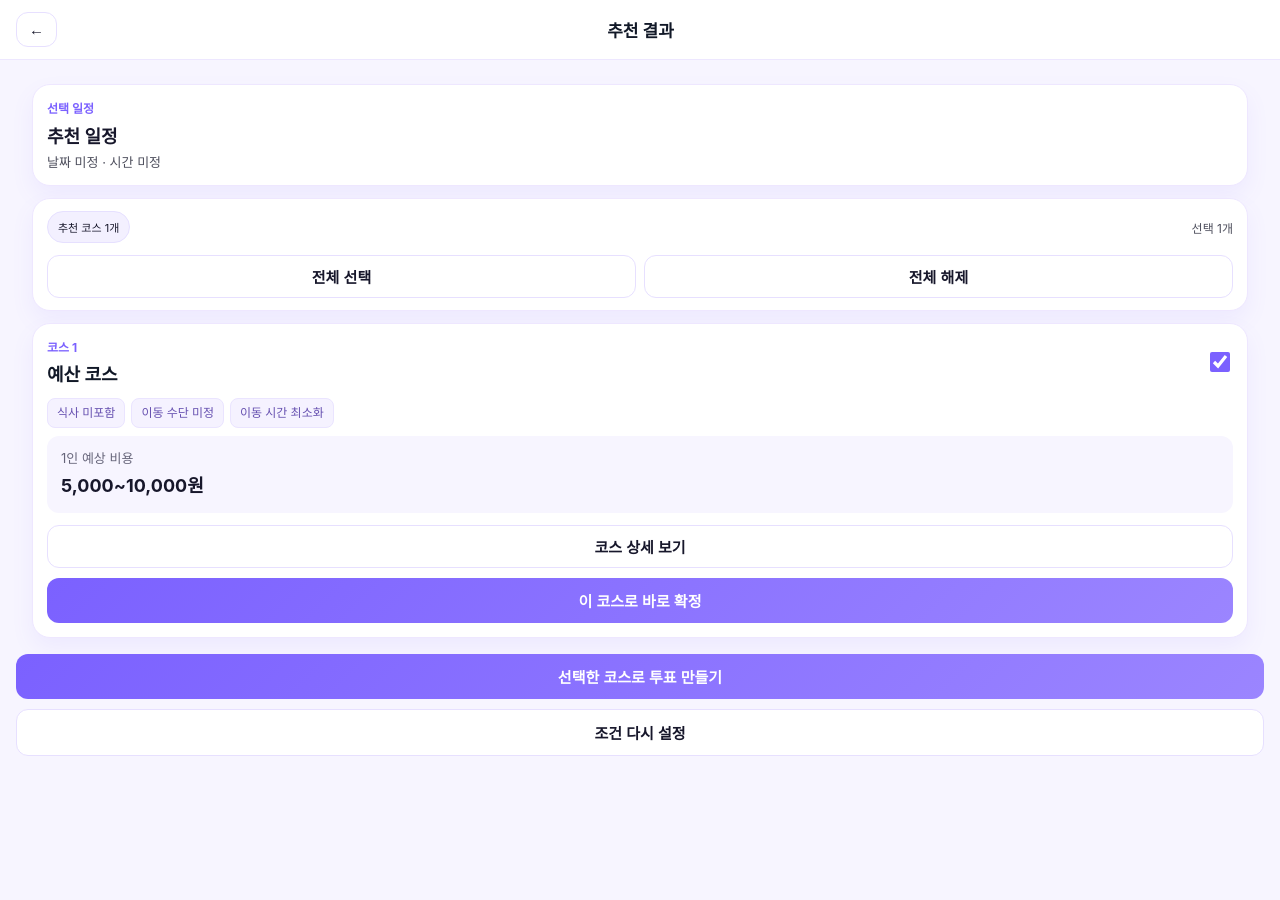
Test: 예산 범위·추정 안내·평점 없음 표시와 선택 데이터 전달
Later steps or results of the test are not shown.
Expected: the text "1인 예상 비용" is shown, [61,450,133,466]
Expected: the text "5,000~10,000원" is shown, [61,475,204,496]
Click the button "코스 상세 보기": (640, 546) [47,525,1233,568]
(page scrolled)
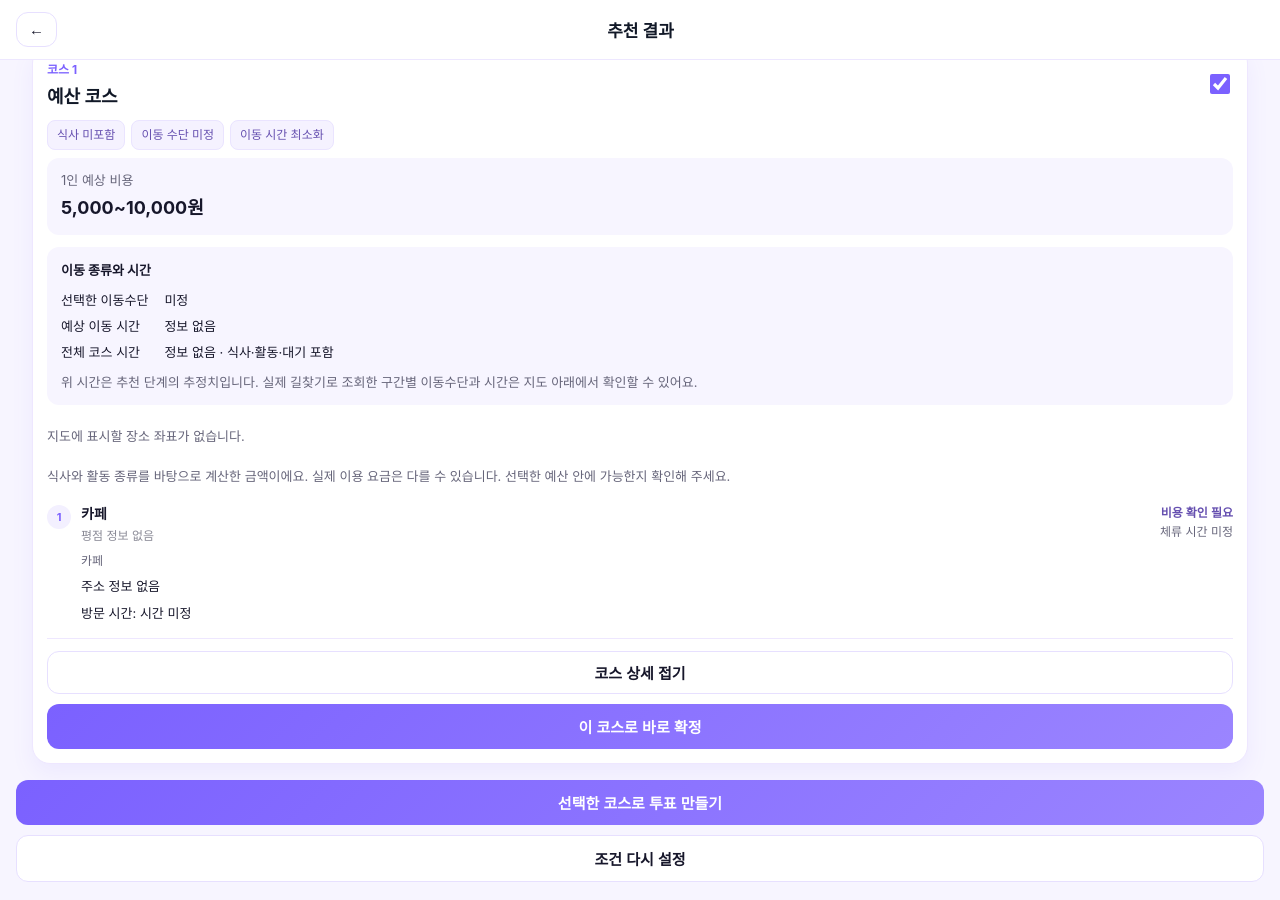
Expected: the text "실제 이용 요금은 다를 수 있습니다" shows "선택한 예산 안에 가능한지 확인해 주세요.", [505,468,730,484]
Expected: the text "평점 정보 없음" is shown, [81,528,154,543]
